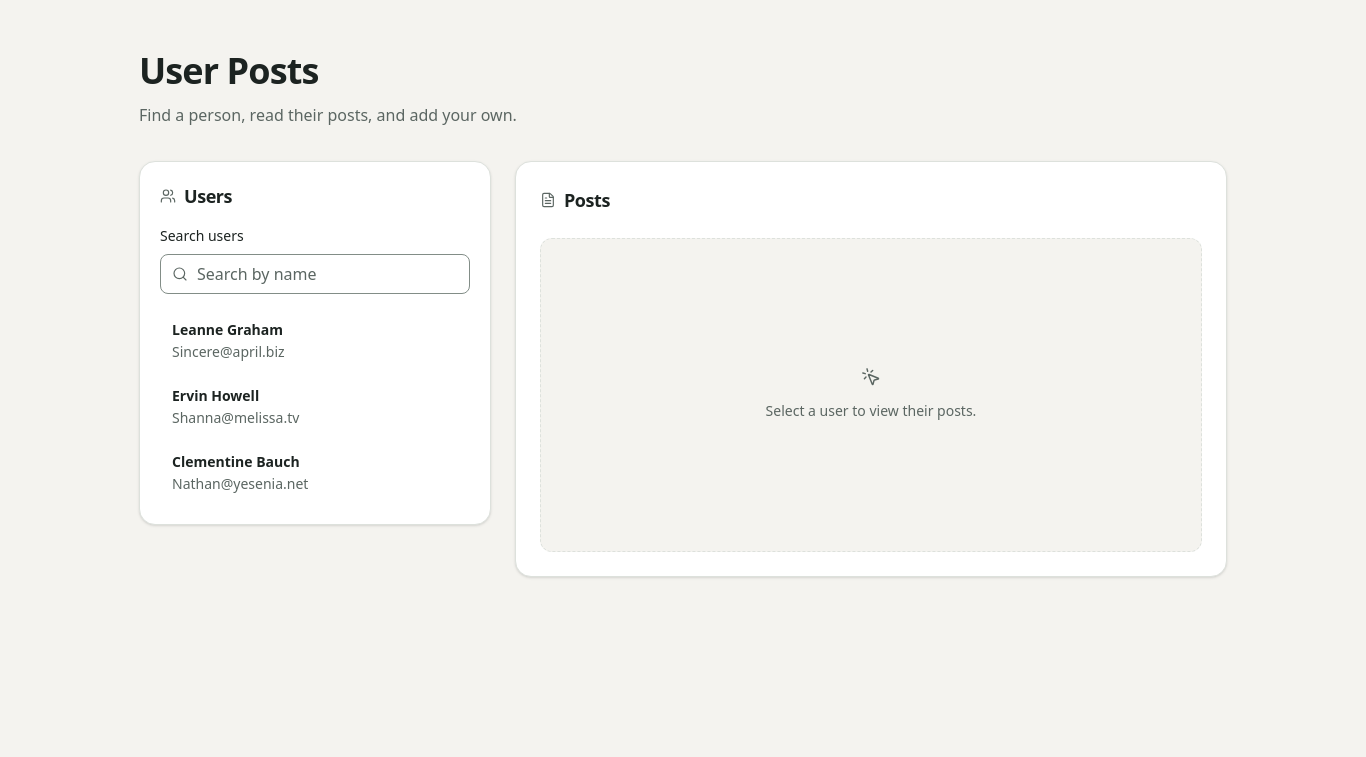
Test: App › fetches and displays posts when a user is selected
Click the button "Leanne Graham Sincere@april.biz" at coordinates (228, 330), box [160, 310, 470, 372]
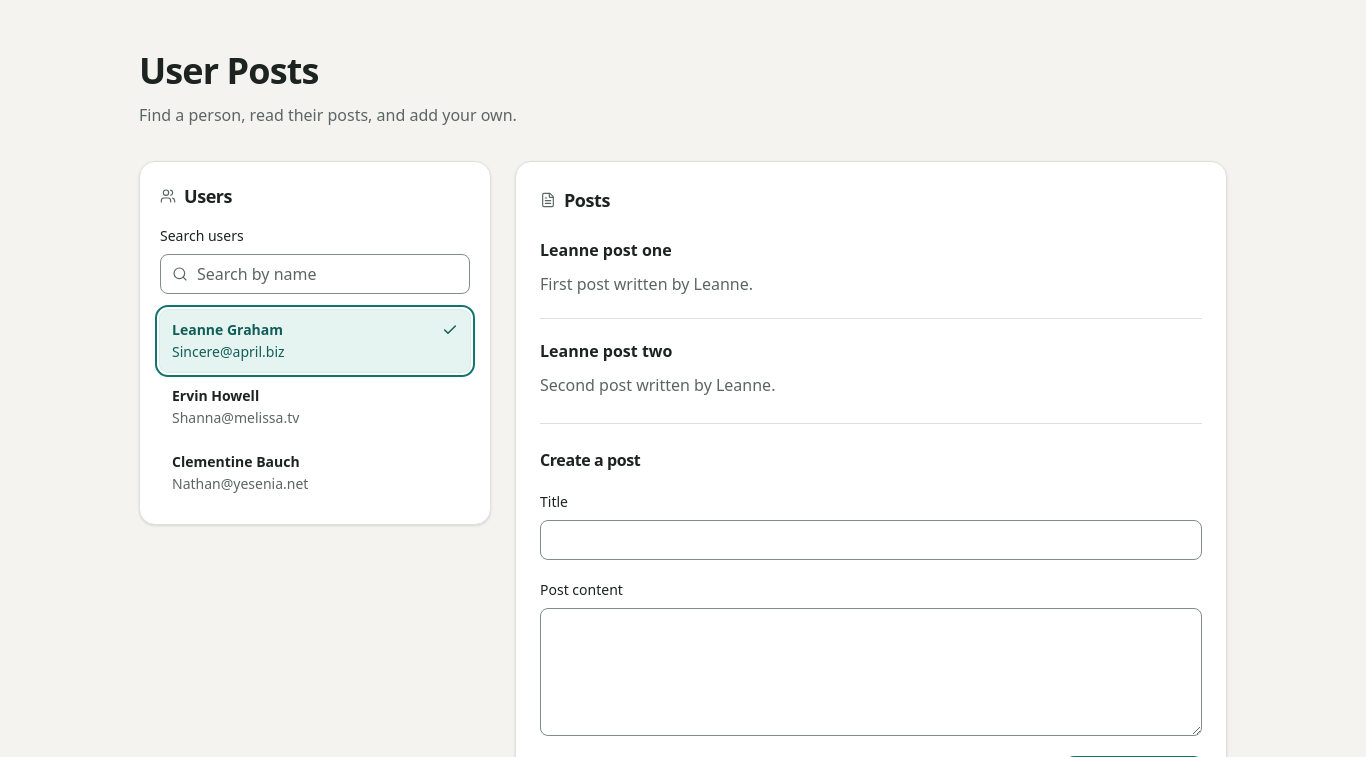
Expected: the heading "Leanne post one" is shown, [540, 239, 672, 261]
